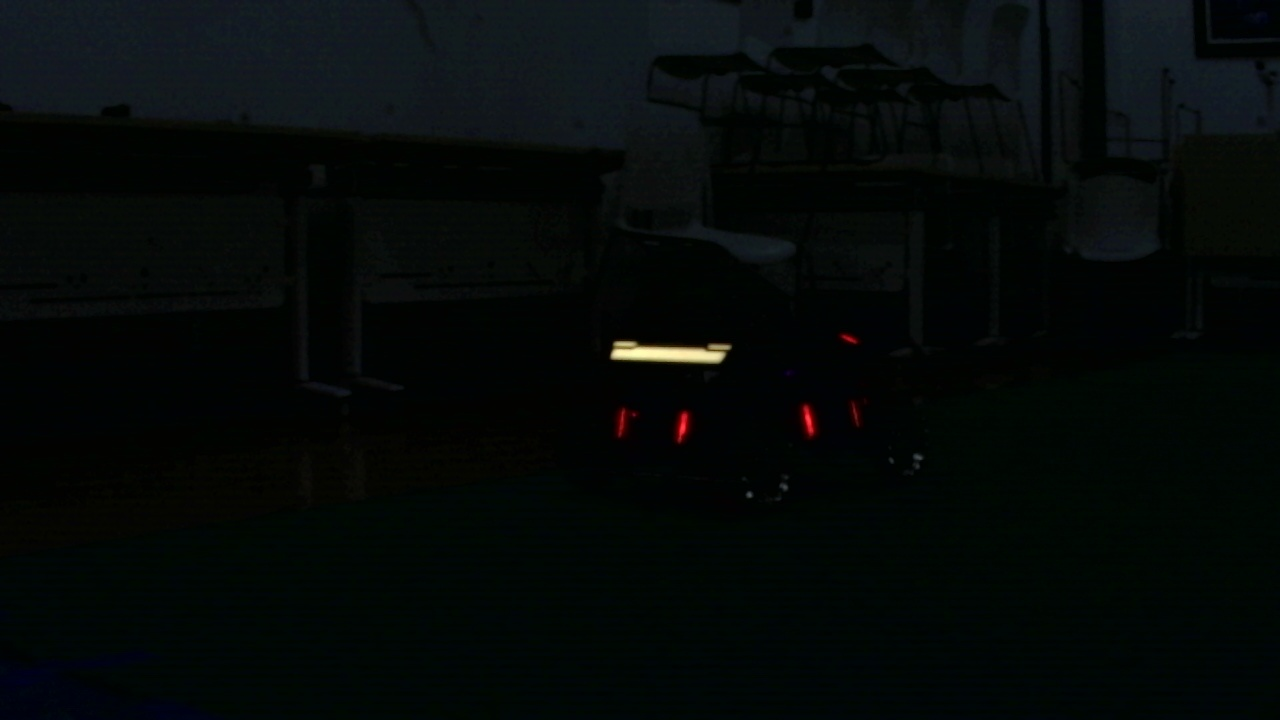lamp: (801, 406, 820, 438), (612, 404, 627, 440), (673, 408, 688, 440)
pair1: (618, 409, 687, 436)
